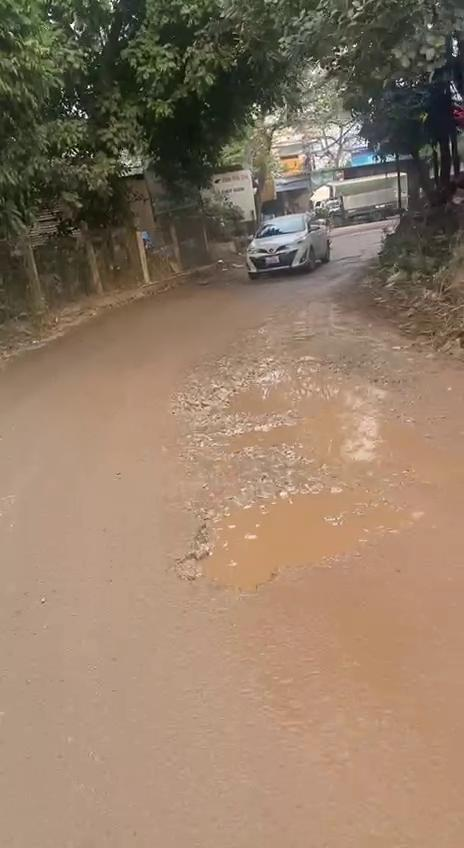pothole: (186, 481, 418, 594), (181, 356, 391, 474)
